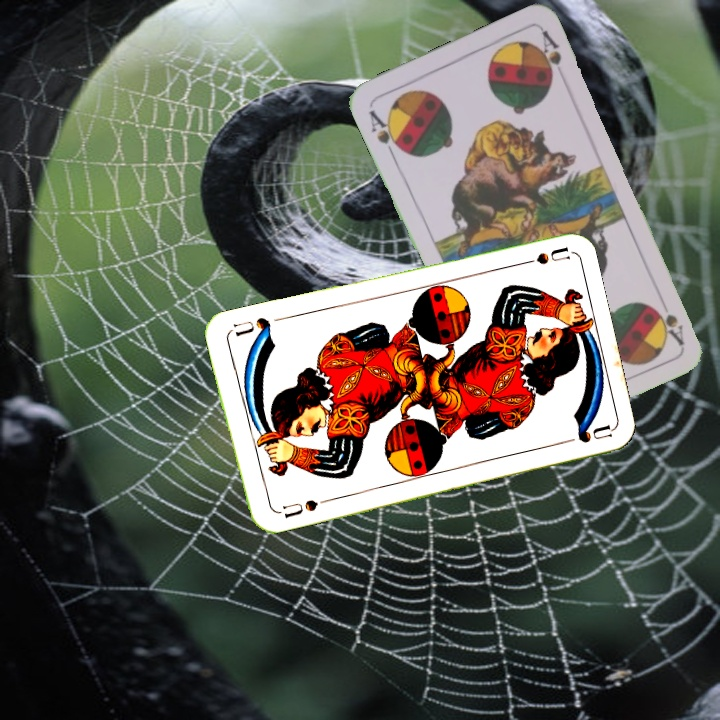SA: (364, 106, 406, 160), (653, 291, 687, 348)
SU: (511, 243, 570, 269), (270, 495, 320, 521)
